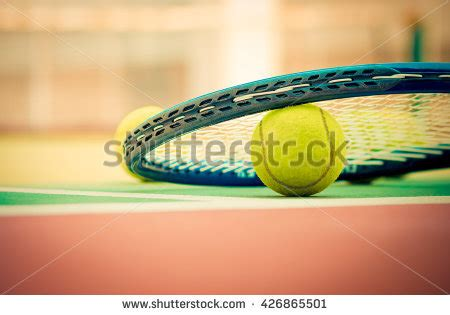tennis_ball: (250, 104, 348, 197)
